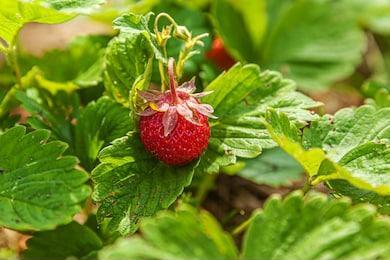Fresa: (134, 85, 218, 174)
